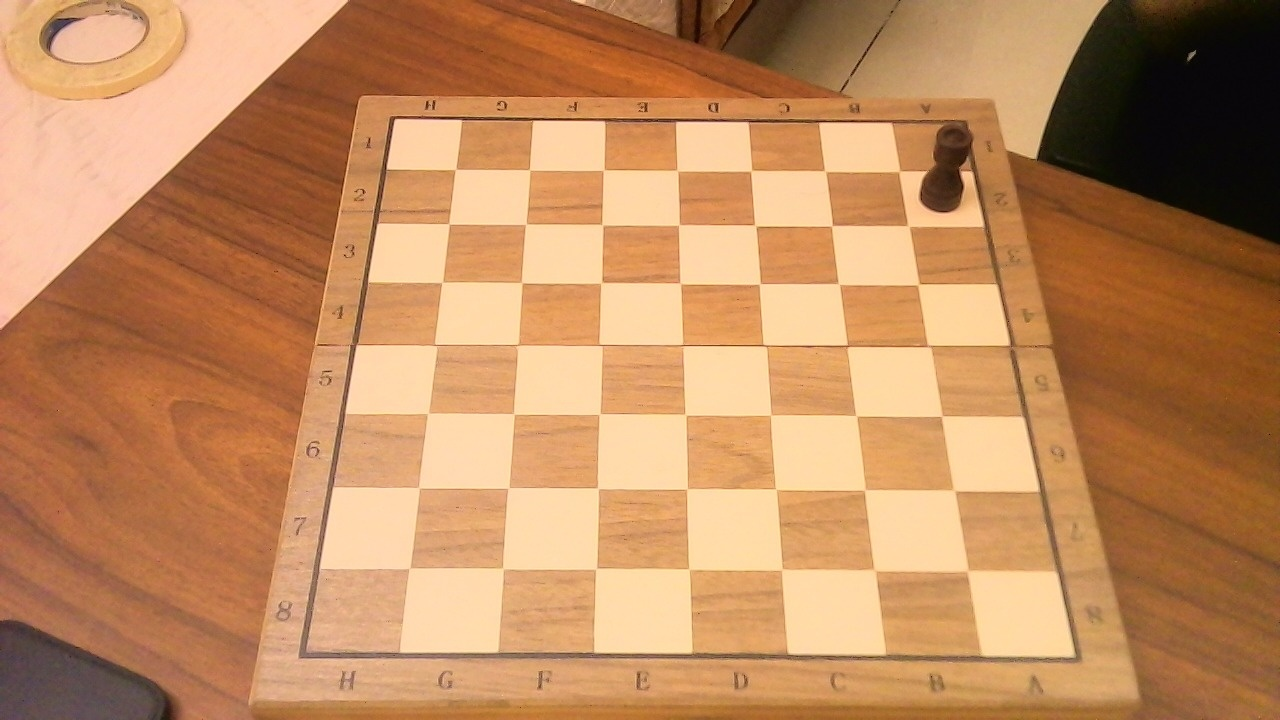r: (913, 107, 982, 218)
